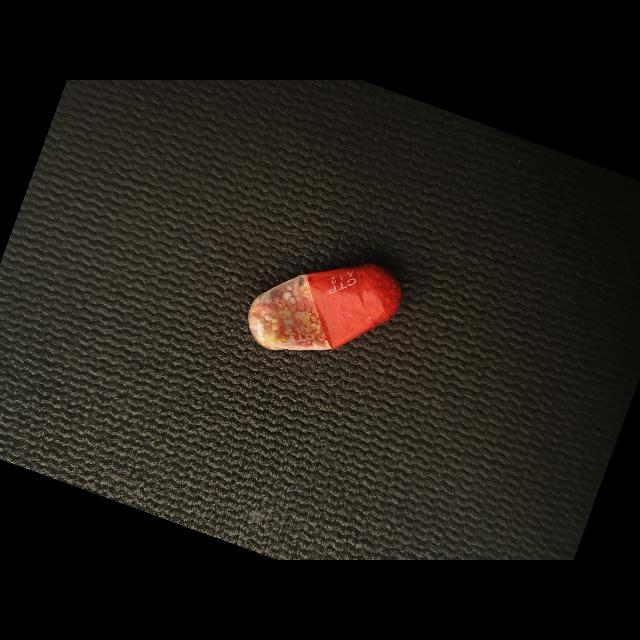Defective Capsule: (248, 263, 401, 350)
